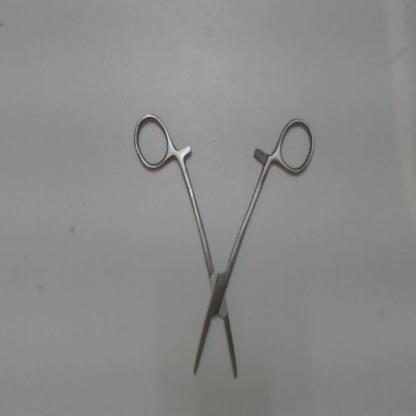Mayo Needle Holder: (128, 108, 318, 386)
